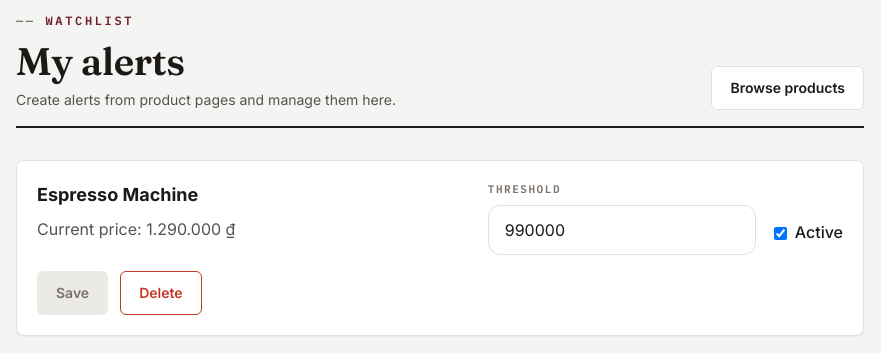
it: Alerts page › disables Save and reads "Saving..." while the update is in flight
The width and height of the screenshot is (881, 353).
Replace the text in the number field with "880000". click: (622, 230)
box: [488,205,756,255]
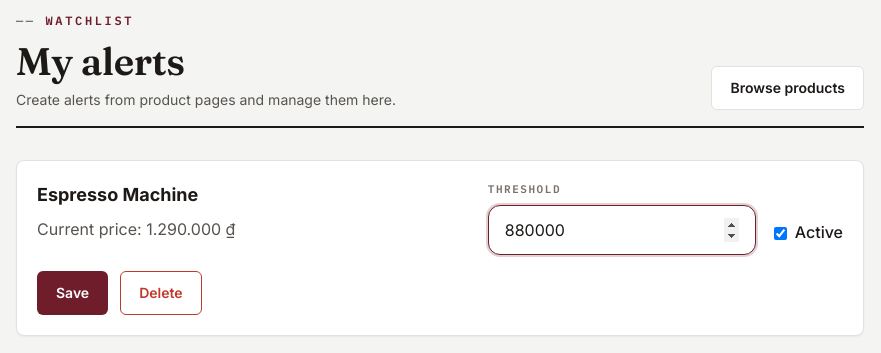
Click the button "Save". click: (73, 293)
box: [37,271,108,315]
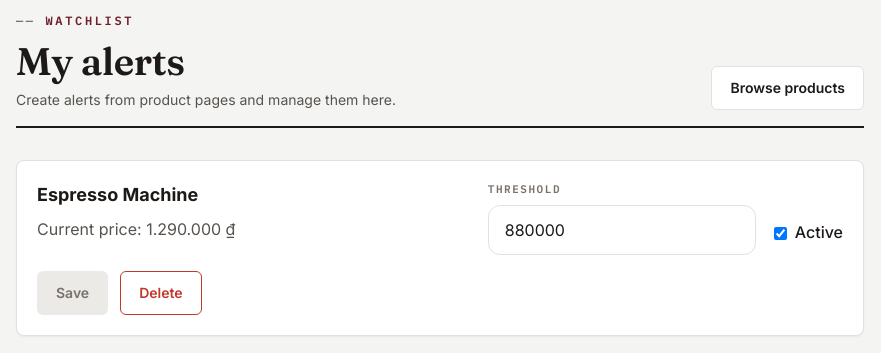
Result: the button named "saving" is disabled at [37,271,108,315]
Result: the button "Save" is disabled at [37,271,108,315]
